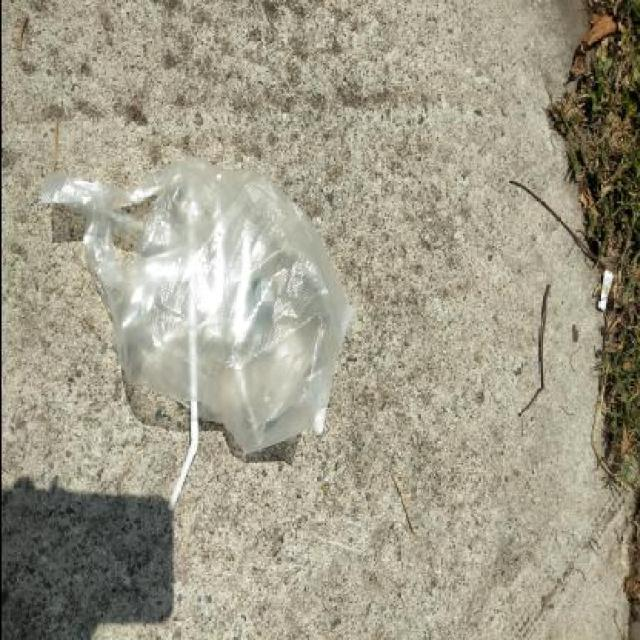plastic: (39, 155, 352, 454)
